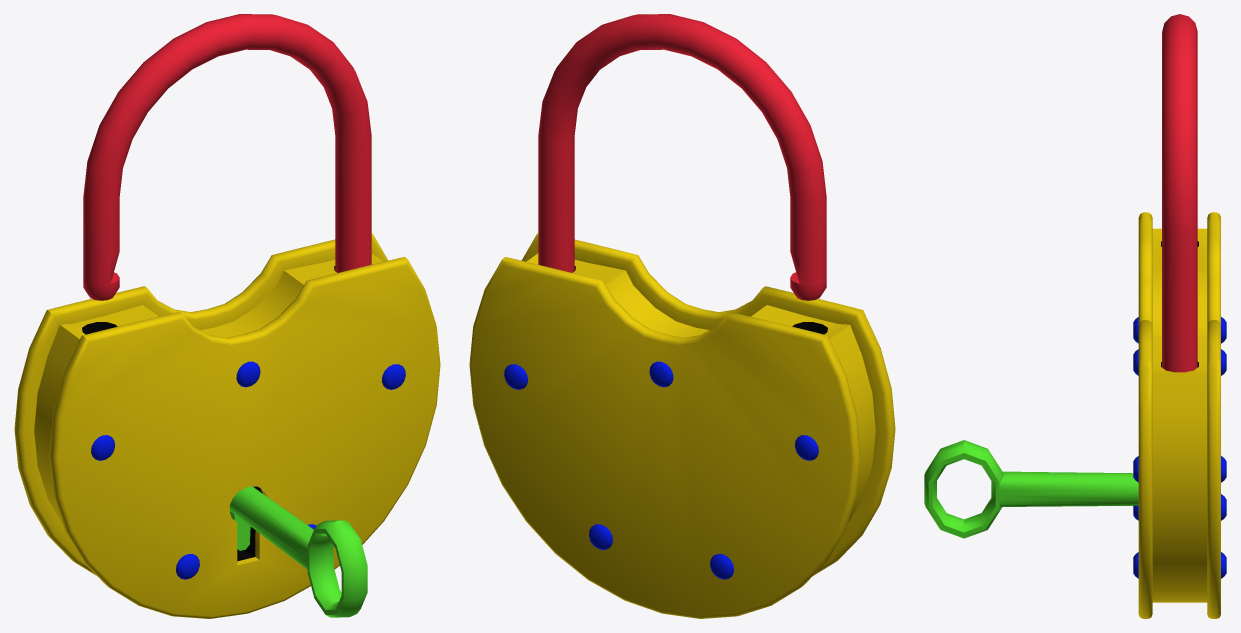
Rendered from Lock.fbx.
3 renders of one model, left to right at view 1: azimuth 30°, elevation 25°; view 2: azimuth 150°, elevation 25°; view 3: azimuth 270°, elevation 25°, orthographic. The views are drawn at different scales.
Parts seen in each view (by area): view 1: Lukko, Sanka, Avain; view 2: Lukko, Sanka; view 3: Lukko, Sanka, Avain.
Boxes of the visible parts, x1,y1,x2,y2 form: Lukko: [14, 233, 440, 618]; Sanka: [83, 14, 371, 300]; Avain: [229, 486, 367, 617]; Lukko: [469, 233, 895, 618]; Sanka: [538, 14, 826, 300]; Lukko: [1133, 212, 1226, 618]; Sanka: [1162, 14, 1197, 372]; Avain: [924, 440, 1138, 538].
Bounding box in the file's own units: 8 × 11.45 × 5.51.
